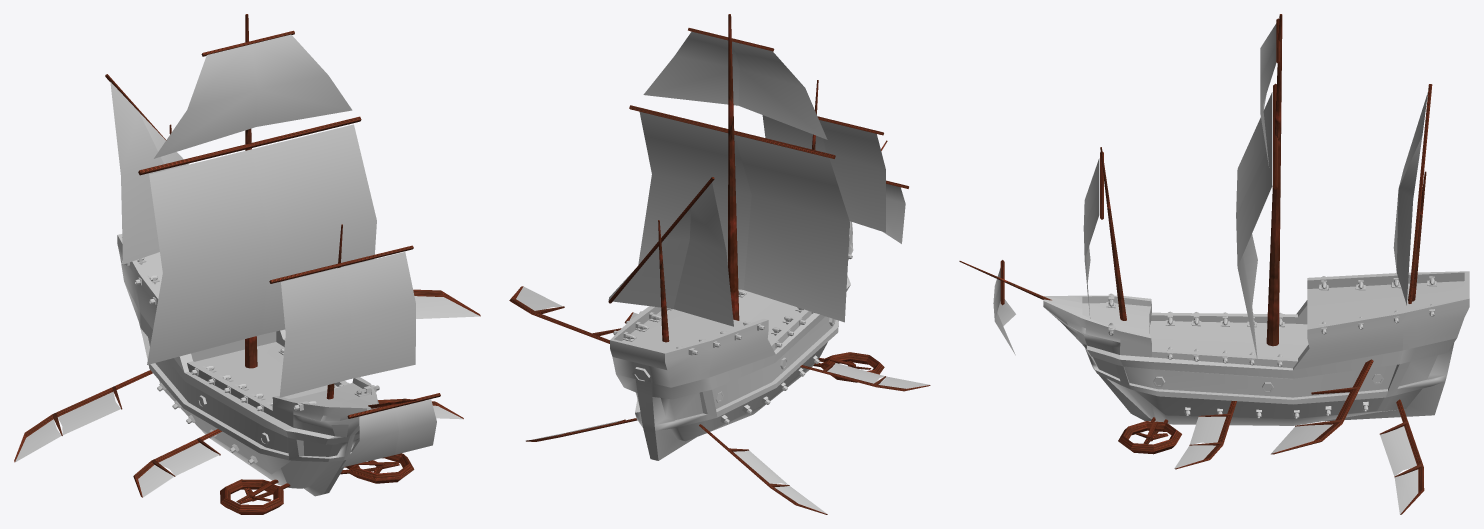
The model's file is ship.fbx.
The picture shows the model from 3 angles, left to right: view 1: azimuth 30°, elevation 25°; view 2: azimuth 150°, elevation 25°; view 3: azimuth 270°, elevation 25°; orthographic projection. The views are drawn at different scales.
Visible parts, largest first — view 1: pPlane3, pCube14, pPlane4, pPlane2, pPlane6, pPlane5, pCube9, pTorus1 (×2), pPlane7 (×2), pCube7 (×2), pPlane8 (×2), pCube4 (+3 smaller); view 2: pPlane3, pCube14, pPlane2, pPlane6, pPlane4, pCube9, pCylinder7, pPlane7 (×2), pCube7 (×2), pPlane5, pCube4, pTorus1 (+4 smaller); view 3: pCube9, pCube14, pPlane3, pPlane6, pCylinder7, pPlane7 (×2), pCube7 (×2), pTorus1, pPlane4, group1_pCube7, pPlane2, pCube6 (+4 smaller).
Part boxes in pixels (x1,y1,x2,y2): pPlane3: (147, 124, 376, 364); pCube14: (117, 234, 371, 496); pPlane4: (279, 252, 415, 397); pPlane2: (154, 34, 352, 158); pPlane6: (110, 82, 188, 264); pPlane5: (341, 399, 436, 467); pCube9: (231, 329, 379, 493); pTorus1 (×2): (220, 453, 414, 514); pPlane7 (×2): (57, 392, 219, 475); pCube7 (×2): (14, 370, 221, 497); pPlane8 (×2): (15, 419, 174, 497); pCube4: (138, 116, 361, 175); pPlane3: (638, 112, 849, 322); pCube14: (637, 221, 853, 460); pPlane2: (643, 31, 827, 139); pPlane6: (608, 182, 733, 326); pPlane4: (762, 115, 885, 232); pCube9: (610, 289, 774, 459); pCylinder7: (728, 14, 739, 320); pPlane7 (×2): (733, 363, 884, 484); pCube7 (×2): (699, 362, 930, 514); pPlane5: (883, 184, 905, 243); pCube4: (629, 105, 835, 158); pTorus1: (813, 352, 884, 382); pCube9: (1043, 285, 1469, 425); pCube14: (1043, 271, 1469, 344); pPlane3: (1236, 92, 1272, 362); pPlane6: (1393, 92, 1427, 305); pCylinder7: (1266, 14, 1282, 346); pPlane7 (×2): (1190, 416, 1416, 476); pCube7 (×2): (1175, 399, 1424, 514); pTorus1: (1118, 417, 1181, 454); pPlane4: (1083, 158, 1099, 318); group1_pCube7: (1271, 359, 1373, 454); pPlane2: (1260, 23, 1276, 167); pCube6: (1408, 84, 1432, 303).
Bounding box in the file's own units: 8.02 × 8.71 × 9.41.
